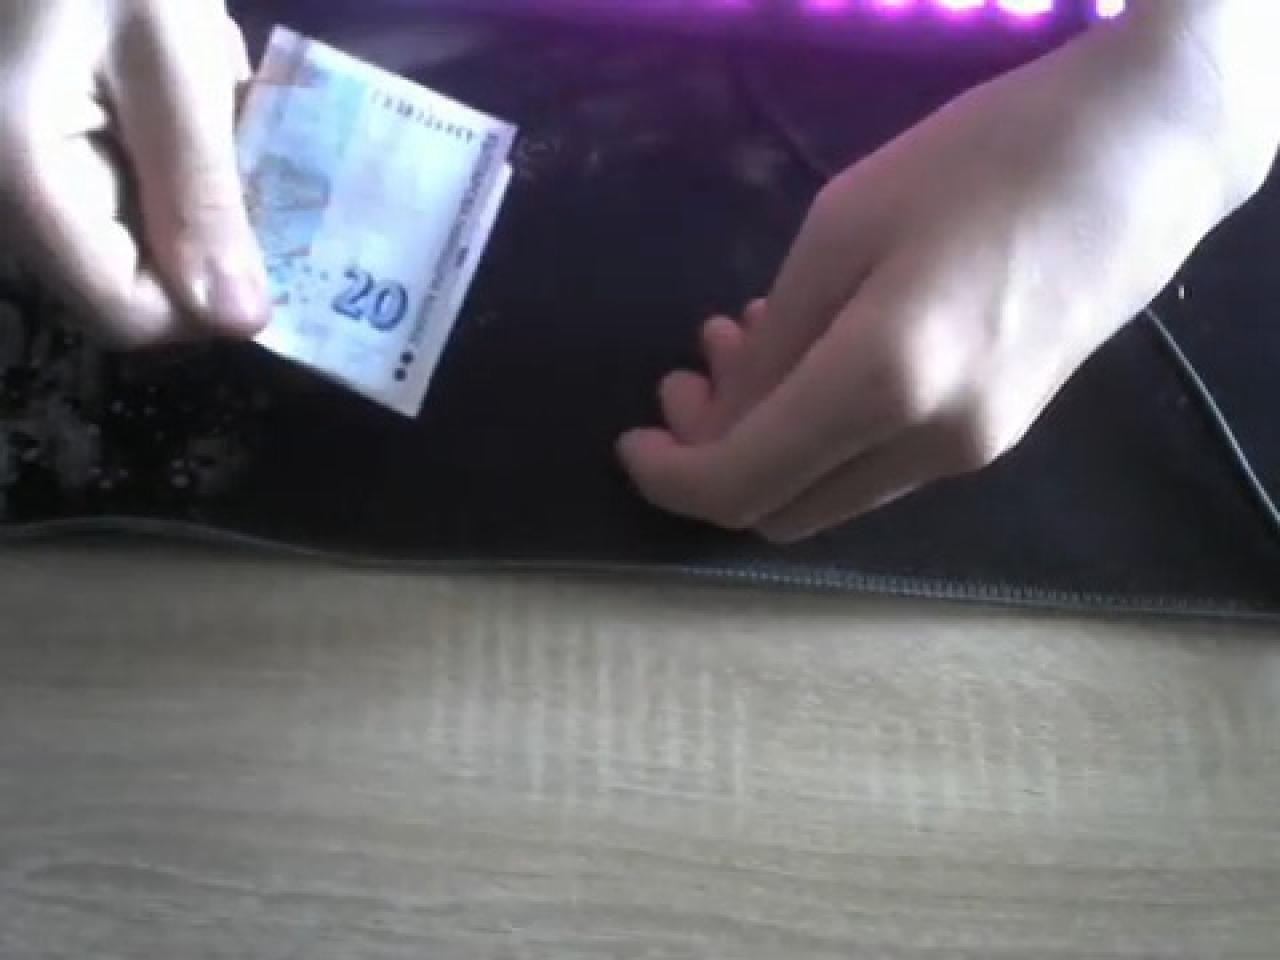20leva: (235, 32, 517, 424)
